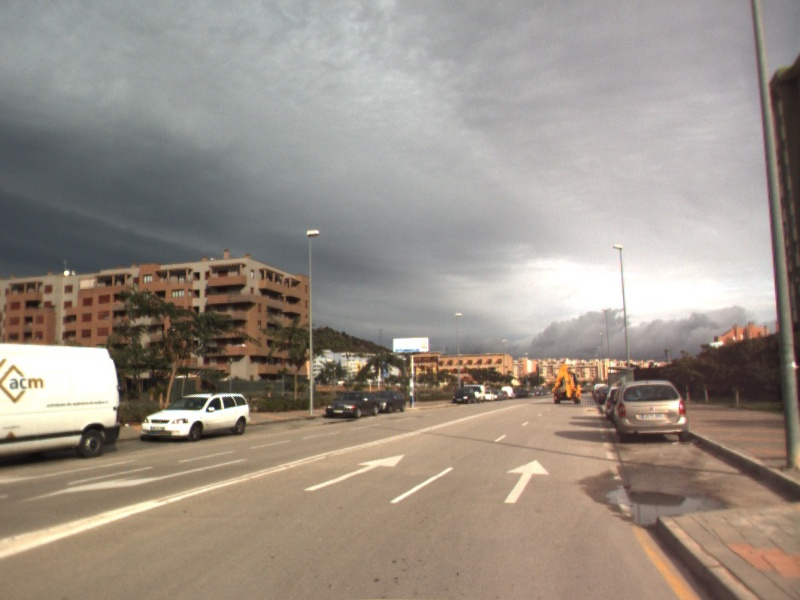STRAIGHT: (302, 452, 407, 493), (502, 458, 551, 505)
